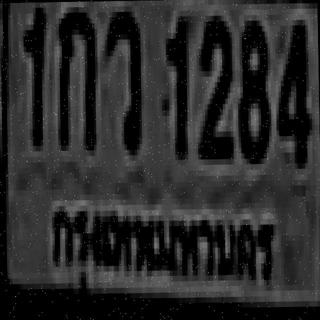A01: (56, 1, 96, 145)
A37: (104, 6, 140, 150)
N01: (164, 10, 189, 154), (20, 2, 45, 140)
N02: (196, 10, 231, 154)
N04: (274, 14, 307, 164)
N08: (234, 15, 267, 159)
P04: (44, 196, 281, 302)
